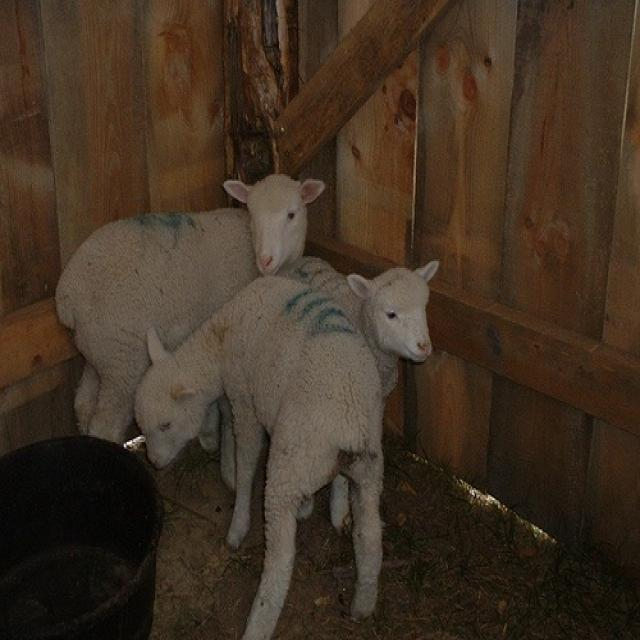sheep: (133, 267, 386, 634), (48, 170, 326, 455), (306, 252, 448, 383)
